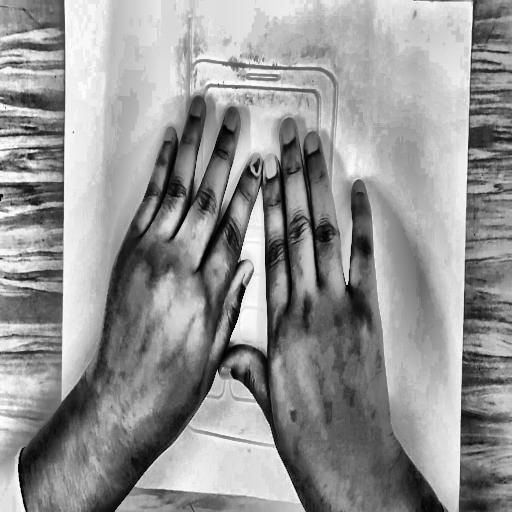bottom_left: (62, 465, 68, 478)
mobile: (182, 9, 341, 461)
top_right: (470, 0, 477, 10)
